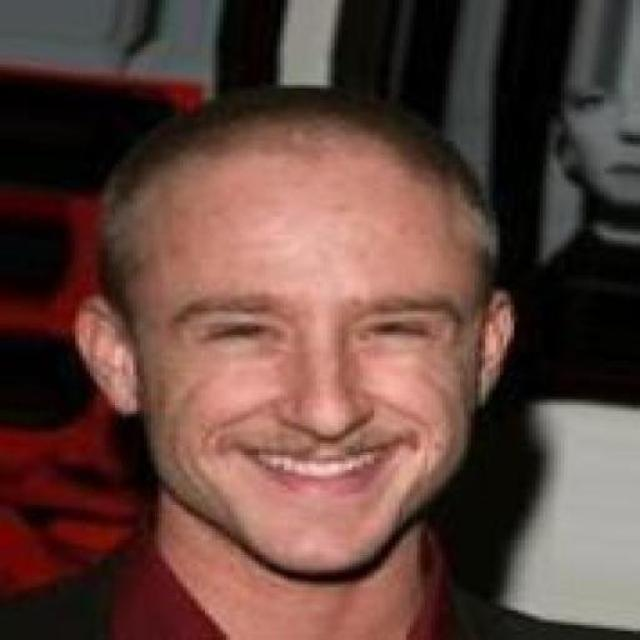bareface: (81, 101, 488, 581)
